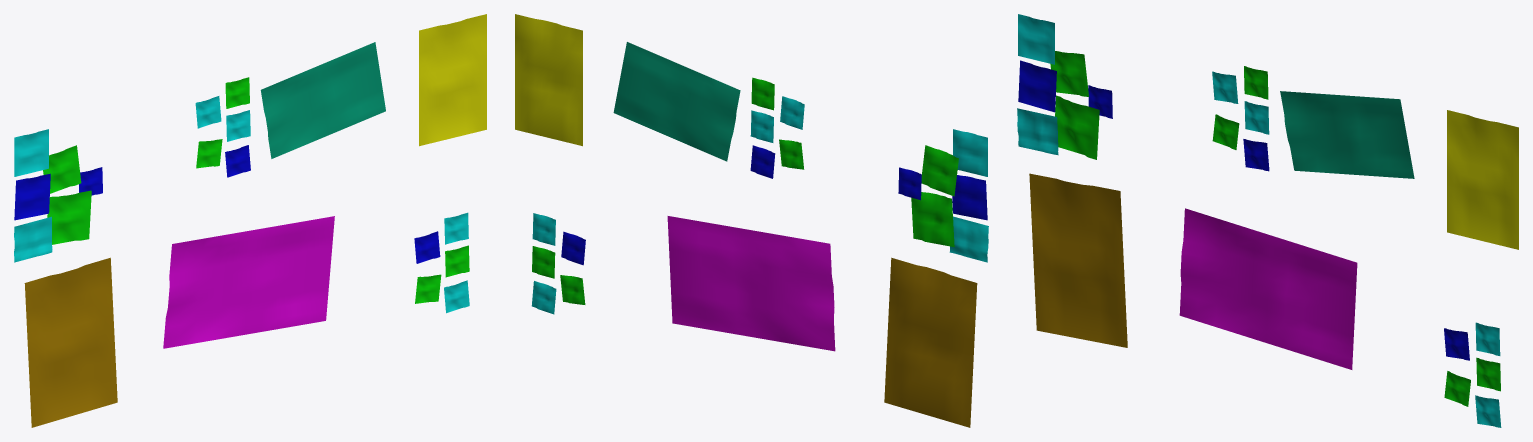
Rendered from Post-its.fbx.
The picture shows the model from 3 angles, left to right: view 1: azimuth 30°, elevation 25°; view 2: azimuth 150°, elevation 25°; view 3: azimuth 330°, elevation 25°; orthographic projection. The views are drawn at different scales.
Parts seen in each view (by area): view 1: posts4, posts8, posts9, posts, posts6, posts2, posts1, posts3, posts5, posts19, posts14, posts11 (+8 smaller); view 2: posts4, posts8, posts9, posts, posts6, posts5, posts1, posts3, posts2, posts12, posts10, posts7 (+8 smaller); view 3: posts4, posts8, posts9, posts, posts6, posts2, posts3, posts1, posts5, posts15, posts17, posts12 (+8 smaller).
Part boxes in pixels (x1,y1,x2,y2): posts4: (163, 216, 334, 348); posts8: (24, 257, 117, 427); posts9: (260, 42, 385, 158); posts: (419, 14, 486, 146); posts6: (47, 190, 91, 244); posts2: (14, 173, 50, 220); posts1: (14, 129, 48, 176); posts3: (14, 216, 52, 262); posts5: (43, 145, 81, 193); posts19: (444, 212, 468, 244); posts14: (196, 139, 222, 168); posts11: (226, 110, 250, 141); posts4: (667, 216, 835, 351); posts8: (884, 257, 977, 427); posts9: (613, 42, 740, 161); posts: (515, 14, 582, 146); posts6: (911, 192, 954, 247); posts5: (921, 145, 958, 196); posts1: (953, 129, 987, 176); posts3: (949, 216, 988, 262); posts2: (952, 175, 987, 220); posts12: (750, 145, 775, 178); posts10: (751, 77, 774, 110); posts7: (898, 167, 921, 200); posts4: (1179, 208, 1357, 369); posts8: (1029, 173, 1127, 347); posts9: (1280, 91, 1414, 178); posts: (1447, 110, 1518, 249); posts6: (1055, 95, 1099, 159); posts2: (1018, 60, 1056, 112); posts3: (1017, 108, 1058, 155); posts1: (1018, 14, 1054, 64); posts5: (1050, 51, 1088, 96); posts15: (1475, 395, 1501, 427); posts17: (1476, 357, 1500, 391); posts12: (1243, 139, 1269, 171).
Bounding box in the file's own units: 222 × 136 × 3.11.
